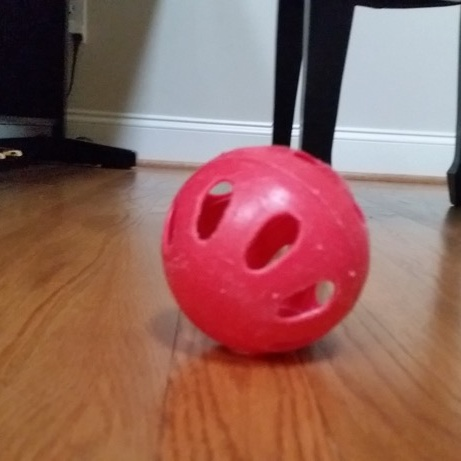redball: (160, 142, 375, 359)
